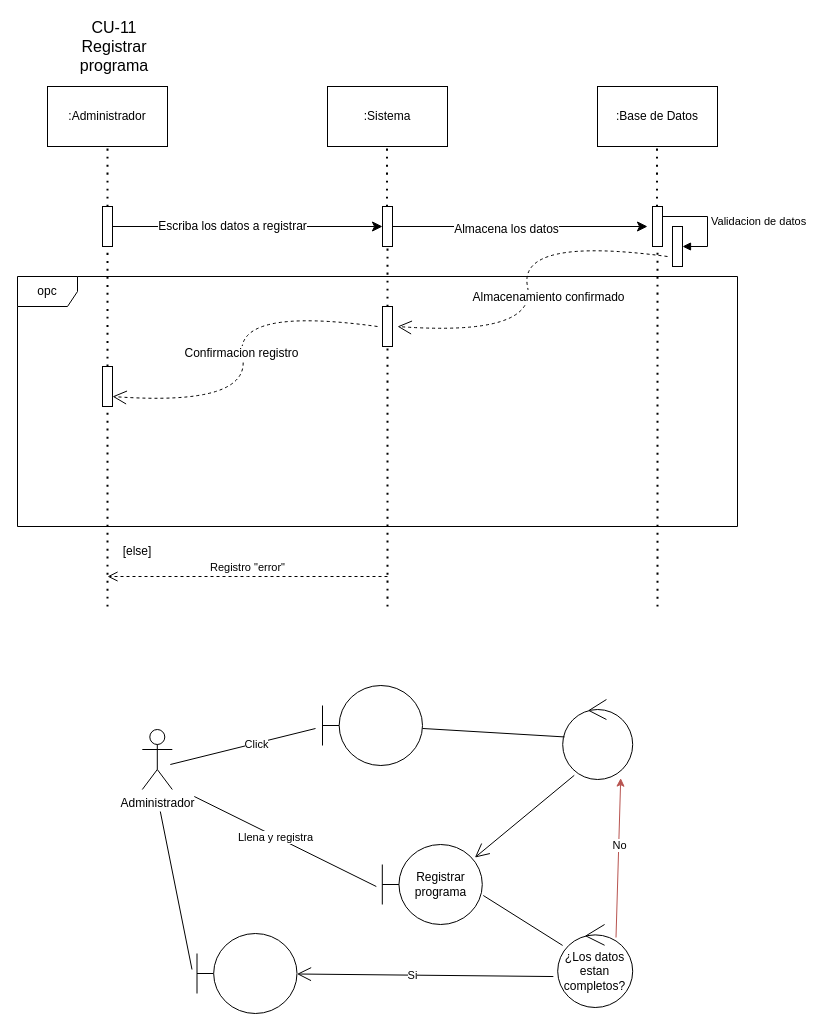
Some shapes in this 824 by 1031 pixel diagram are drawn without their labels. The shapes that lost their labels are listed below. From the top down, each one's centre as x and y in pixels, then its label:
At point (372, 725): "Programa".
At point (597, 739): "Pantalla".
At point (246, 973): "Confirmacion".
